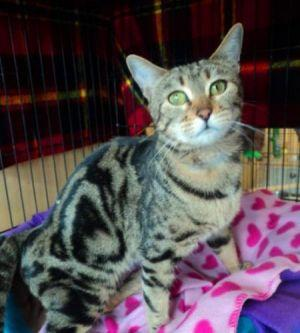bengal: (121, 19, 254, 158)
